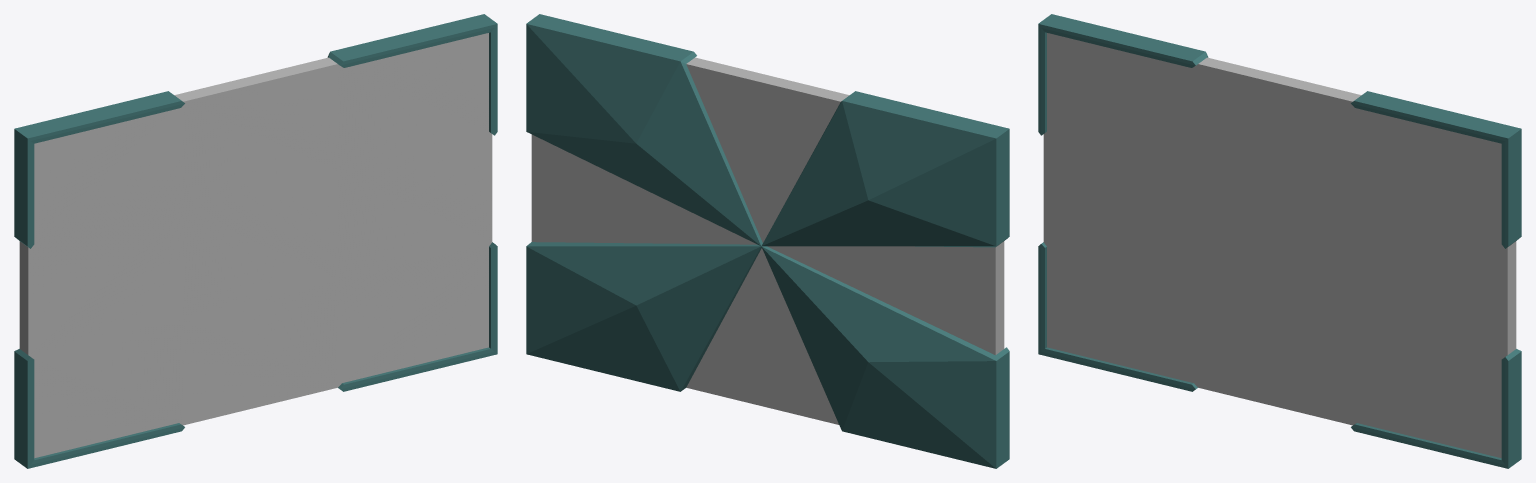
File: Tablet.fbx
The picture shows the model from 3 angles, left to right: view 1: azimuth 30°, elevation 25°; view 2: azimuth 150°, elevation 25°; view 3: azimuth 330°, elevation 25°; orthographic projection.
Parts seen in each view (by area): view 1: Tablet; view 2: Tablet; view 3: Tablet.
Part boxes in pixels (left/top/right/bottom): Tablet: left=14, top=14, right=497, bottom=468; Tablet: left=526, top=14, right=1009, bottom=468; Tablet: left=1038, top=14, right=1521, bottom=468.
Bounding box in the file's own units: 0.304 × 0.2042 × 0.025.
